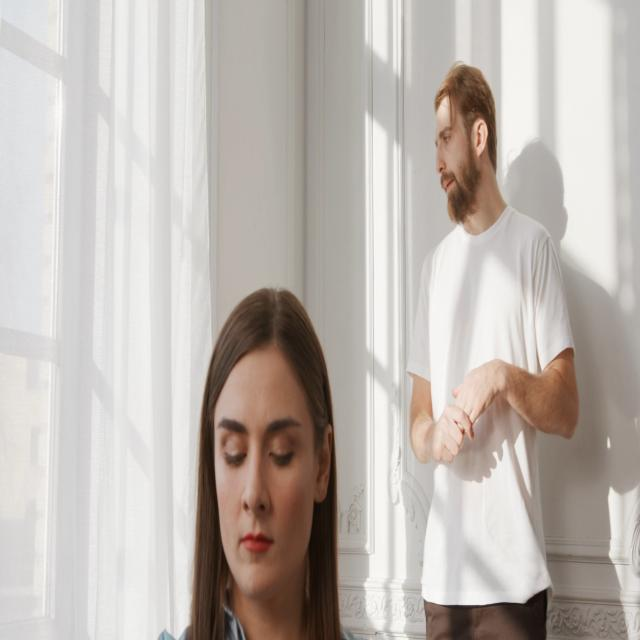confused: (430, 71, 501, 229)
sad: (210, 302, 330, 590)
